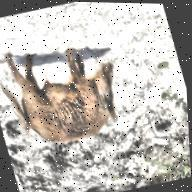boar: (0, 28, 147, 158)
